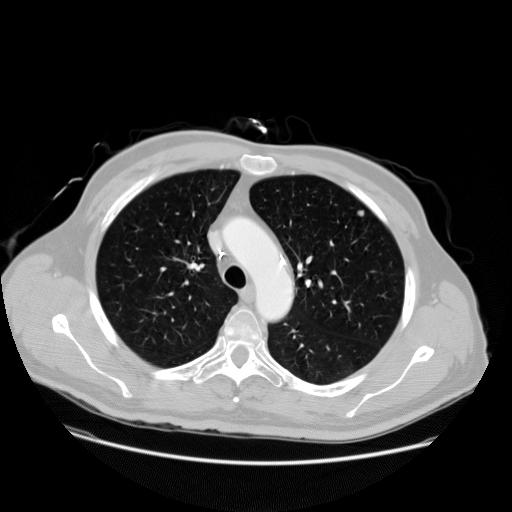nodule: (355, 207, 367, 219)
